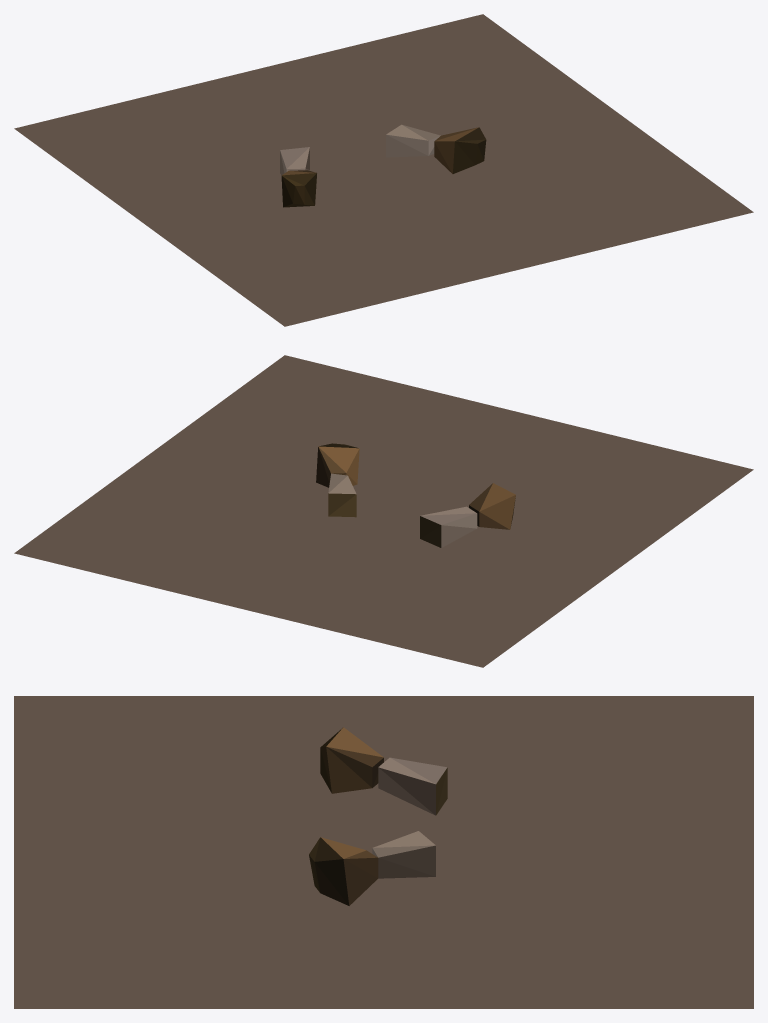
Rendered from splitbark-gauntlets.obj.
The picture shows the model from 3 angles, top to bottom: view 1: azimuth 30°, elevation 25°; view 2: azimuth 150°, elevation 25°; view 3: azimuth 270°, elevation 25°; orthographic projection. The views are drawn at different scales.
Parts seen in each view (by area): view 1: Item Splitbark gauntlets 2026-09-24_18-04-52; view 2: Item Splitbark gauntlets 2026-09-24_18-04-52; view 3: Item Splitbark gauntlets 2026-09-24_18-04-52.
Boxes of the visible parts, <box> form: Item Splitbark gauntlets 2026-09-24_18-04-52: <box>14,14,753,326</box>; Item Splitbark gauntlets 2026-09-24_18-04-52: <box>14,355,753,667</box>; Item Splitbark gauntlets 2026-09-24_18-04-52: <box>14,696,753,1008</box>.
Size of the model in its own units: 128 by 9 by 128.
